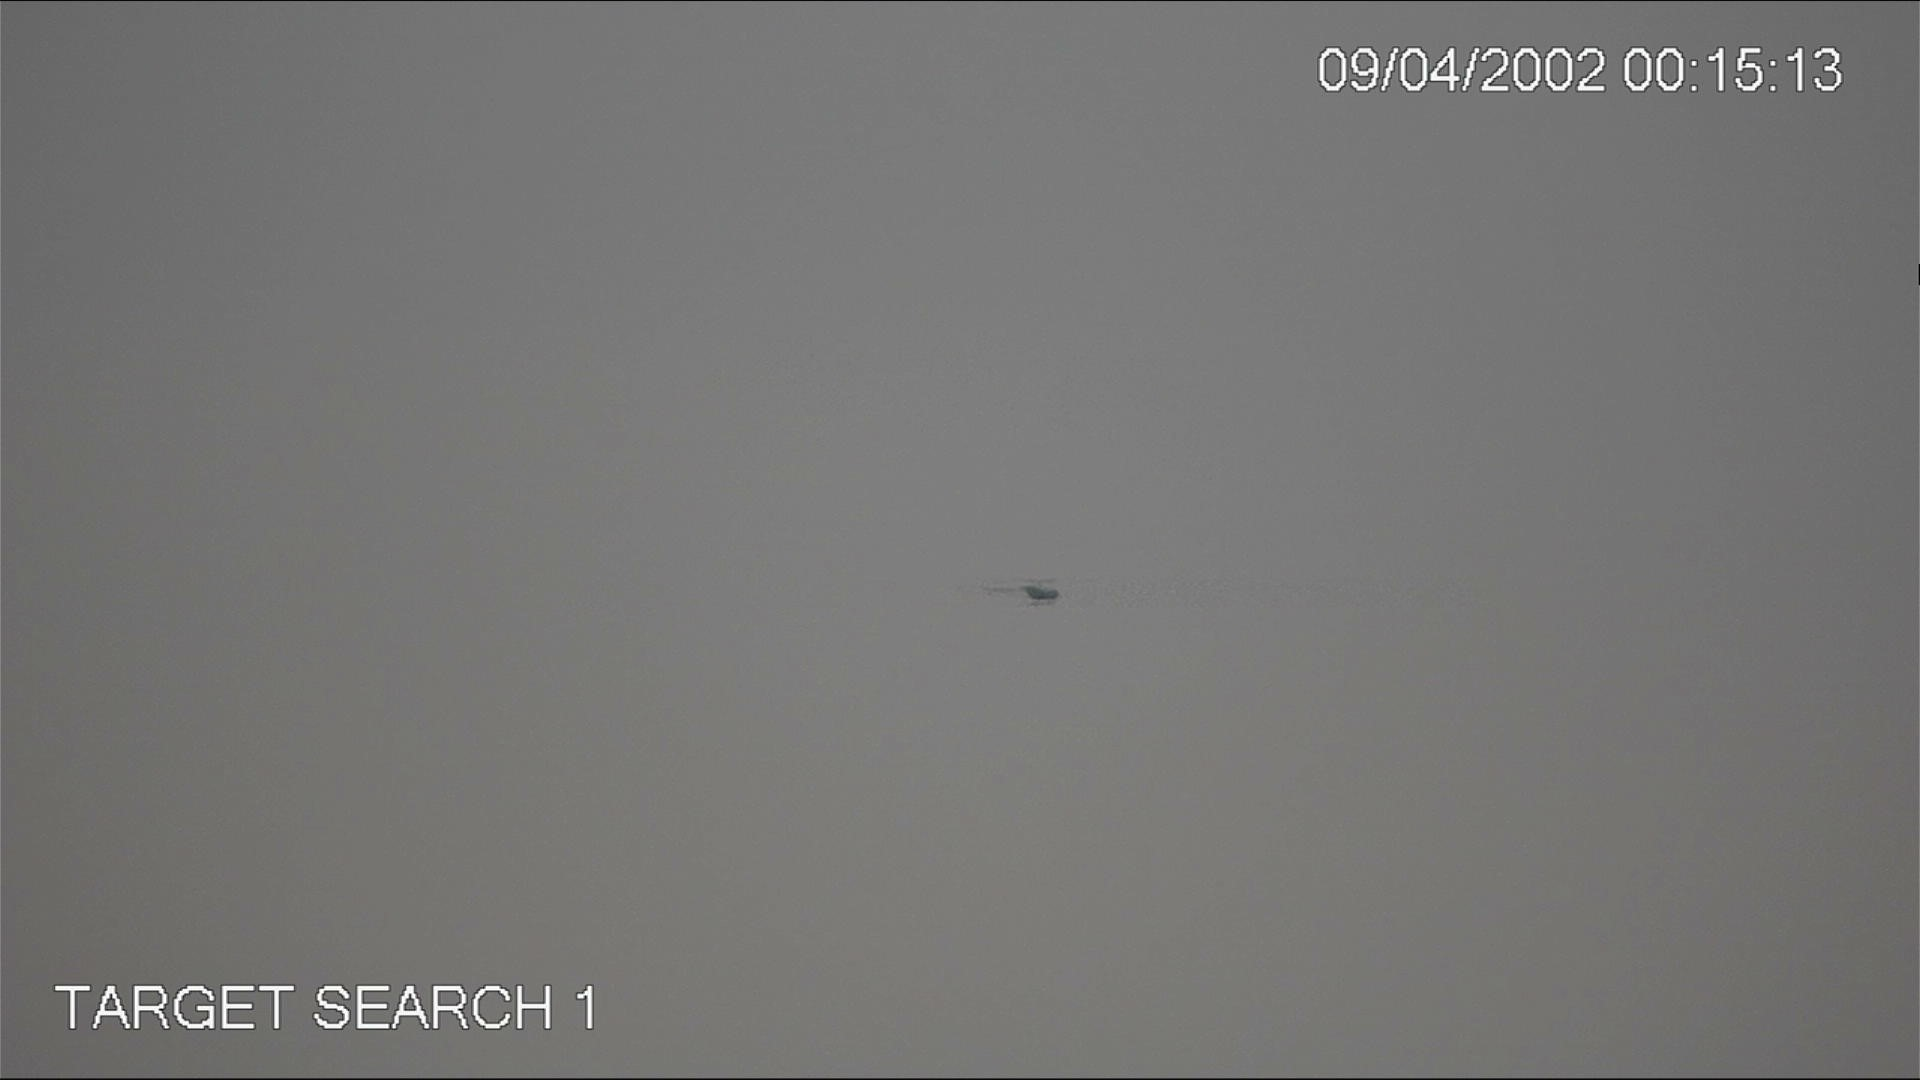SU_30: (973, 570, 1067, 612)
